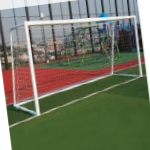goals: (9, 14, 144, 115)
